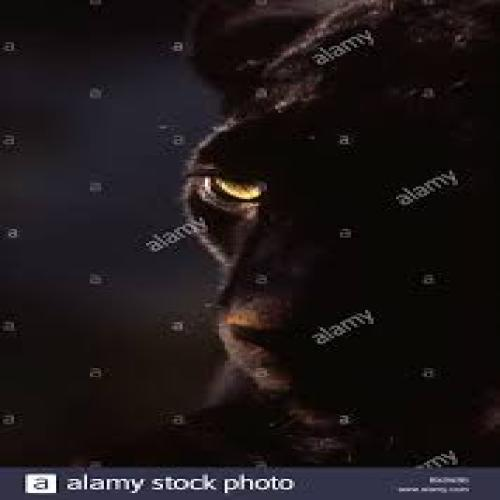panther-endangered: (171, 0, 500, 444)
